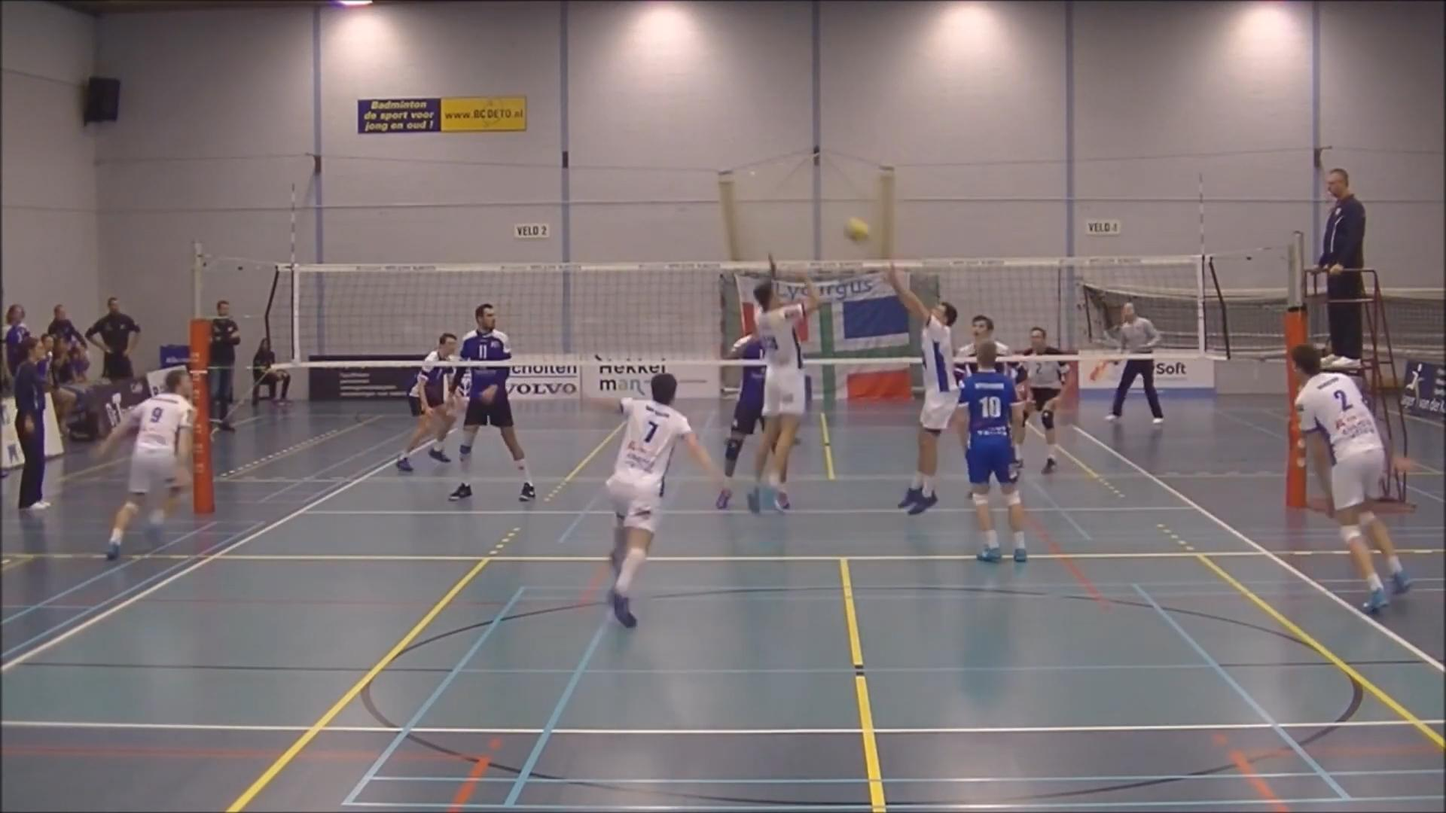alzata: (873, 254, 971, 521)
attacco: (746, 260, 823, 511)
